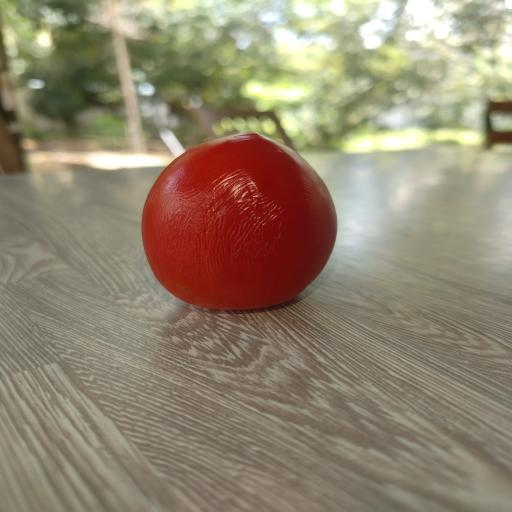spoiled: (142, 133, 336, 309)
